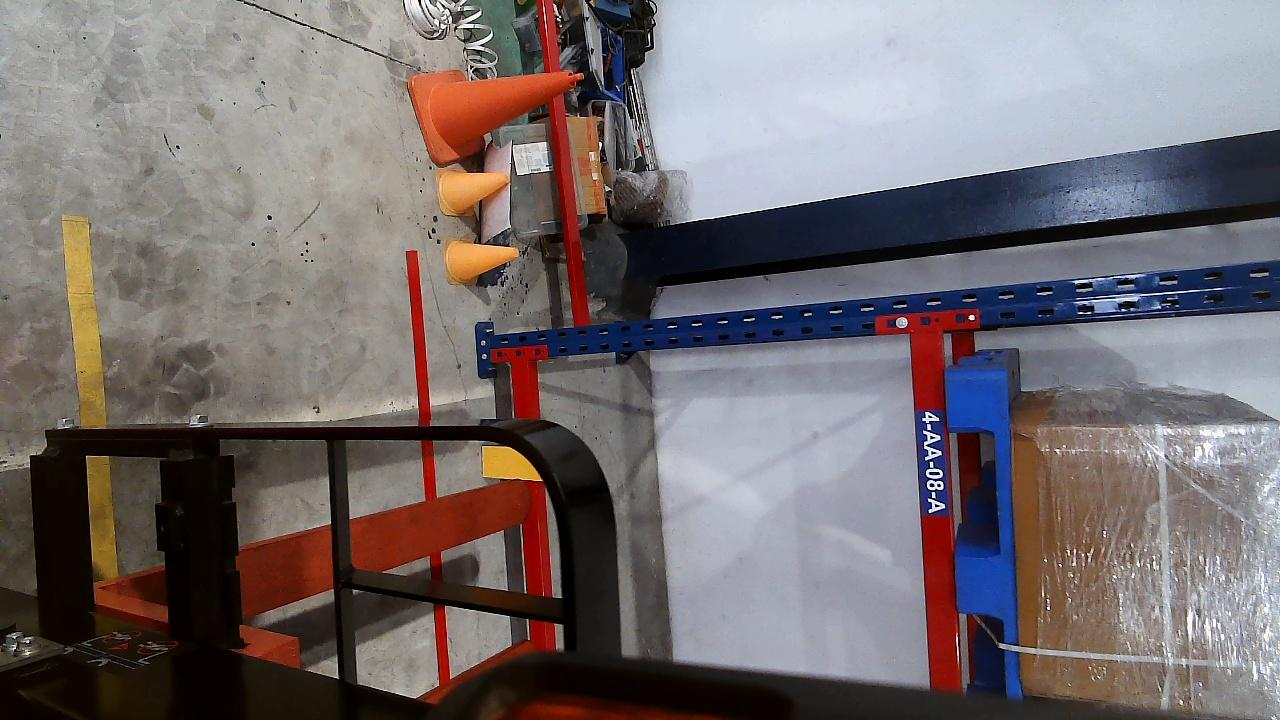h_rack: (908, 326, 963, 690), (507, 360, 549, 592)
red_line: (404, 250, 442, 496)
small_pallet: (946, 364, 1018, 692)
yellow_line: (65, 215, 122, 575)
